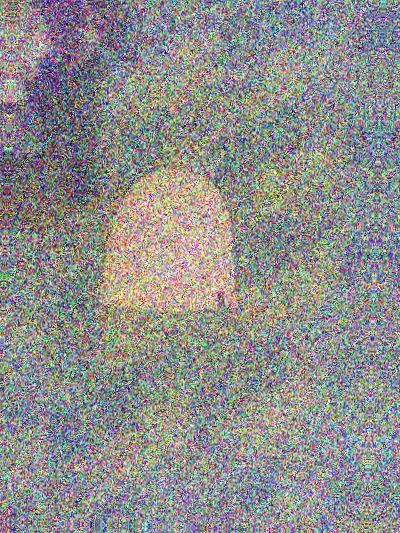Hat: (75, 137, 267, 334)
